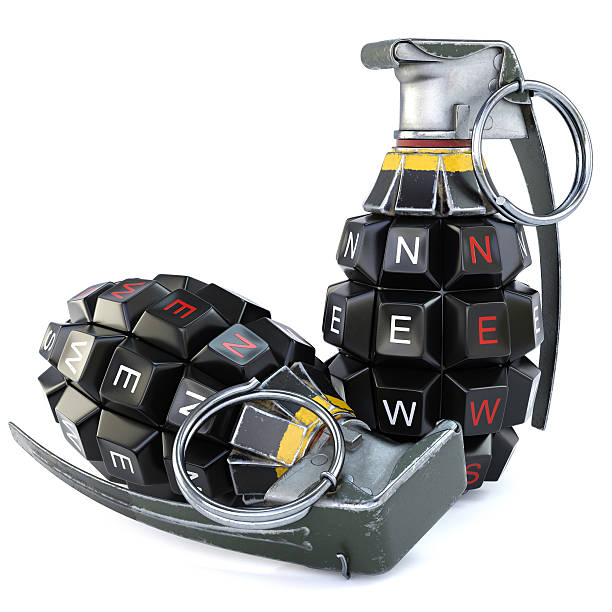e1: (331, 27, 575, 457)
